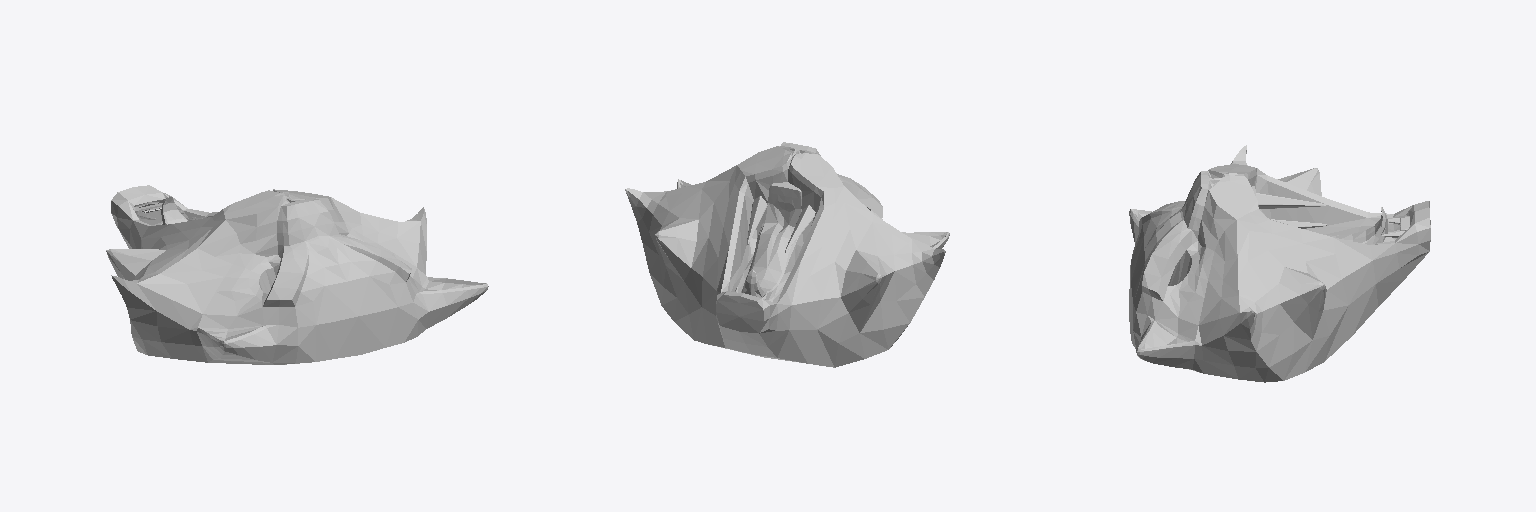
File: CatMedallion.obj
3 renders of one model, left to right at view 1: azimuth 30°, elevation 25°; view 2: azimuth 150°, elevation 25°; view 3: azimuth 270°, elevation 25°, orthographic.
Parts seen in each view (by area): view 1: grp1; view 2: grp1; view 3: grp1.
Part boxes in pixels (left/top/right/bottom): grp1: left=106, top=185, right=488, bottom=364; grp1: left=625, top=142, right=949, bottom=367; grp1: left=1129, top=145, right=1430, bottom=382.
Size of the model in its own units: 0.0595 by 0.0289 by 0.0482.